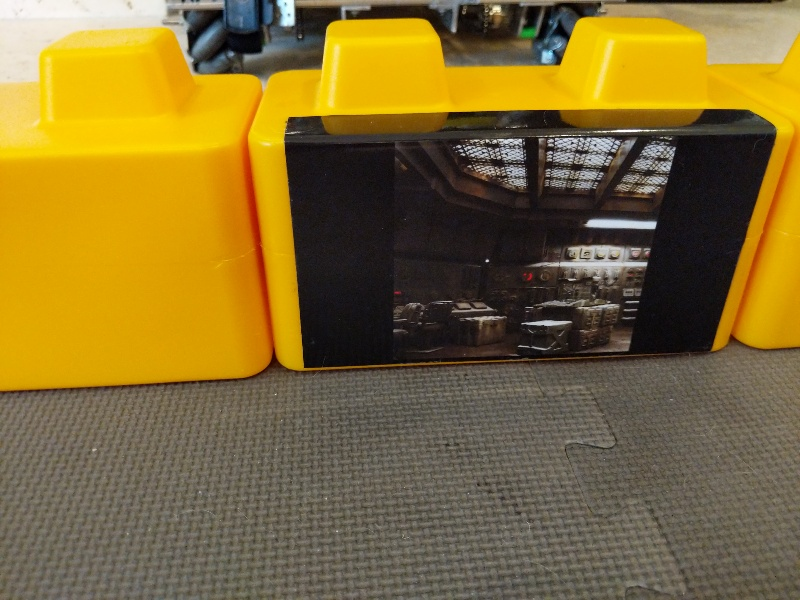Skystone: (274, 105, 784, 372)
